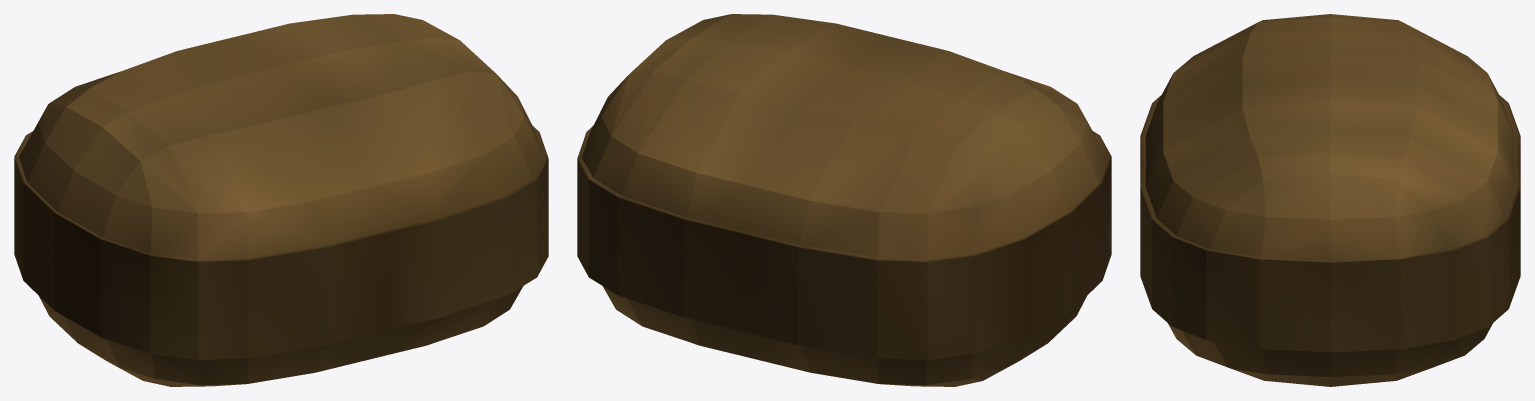
Rendered from wicker_basket_c8e8dc18.glb.
3 renders of one model, left to right at view 1: azimuth 30°, elevation 25°; view 2: azimuth 150°, elevation 25°; view 3: azimuth 270°, elevation 25°, orthographic. The views are drawn at different scales.
Parts seen in each view (by area): view 1: LOW_M_Wicker_Basket_0; view 2: LOW_M_Wicker_Basket_0; view 3: LOW_M_Wicker_Basket_0.
Part boxes in pixels (x1,y1,x2,y2): LOW_M_Wicker_Basket_0: [14, 14, 548, 386]; LOW_M_Wicker_Basket_0: [577, 14, 1111, 386]; LOW_M_Wicker_Basket_0: [1140, 14, 1520, 386].
Size of the model in its own units: 0.357 by 0.203 by 0.2825.
